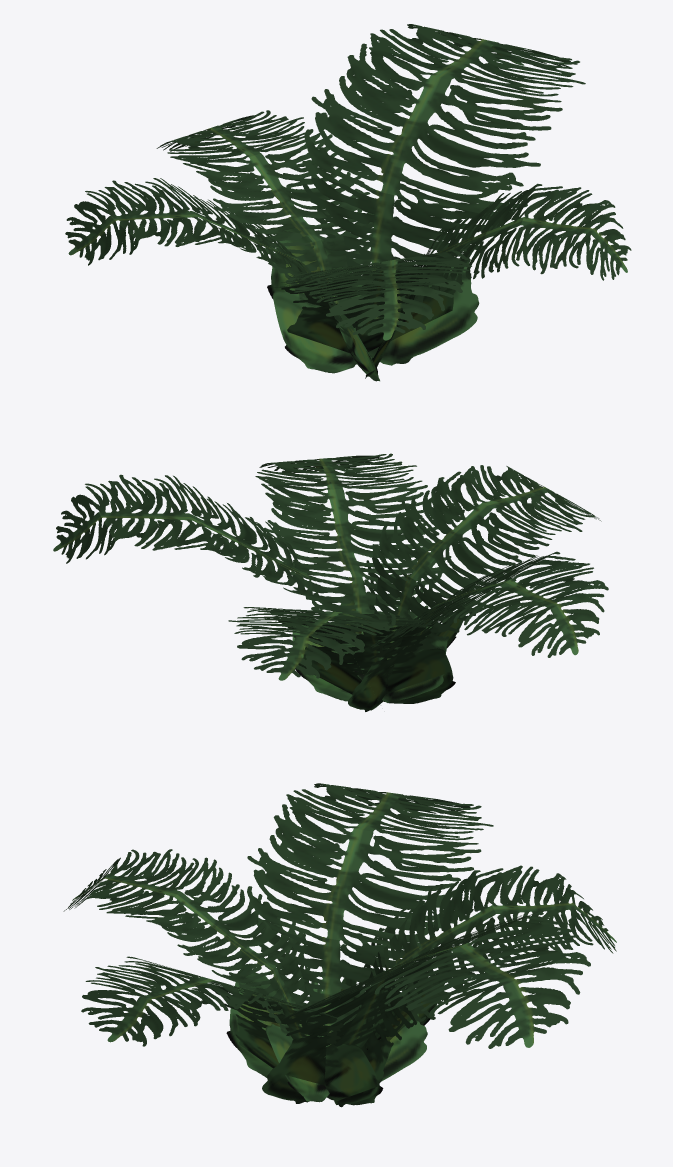
Rendered from Ferns.fbx.
3 views of the same model, one above another, from view 1: azimuth 30°, elevation 25°; view 2: azimuth 150°, elevation 25°; view 3: azimuth 270°, elevation 25° (orthographic). The views are drawn at different scales.
Visible parts, largest first — view 1: Leaf; view 2: Leaf; view 3: Leaf.
Part boxes in pixels (x1=…): Leaf: x1=65, y1=24, x2=631, y2=381; Leaf: x1=53, y1=453, x2=608, y2=711; Leaf: x1=63, y1=783, x2=616, y2=1107.
Size of the model in its own units: 1.89 by 0.6608 by 1.6.
